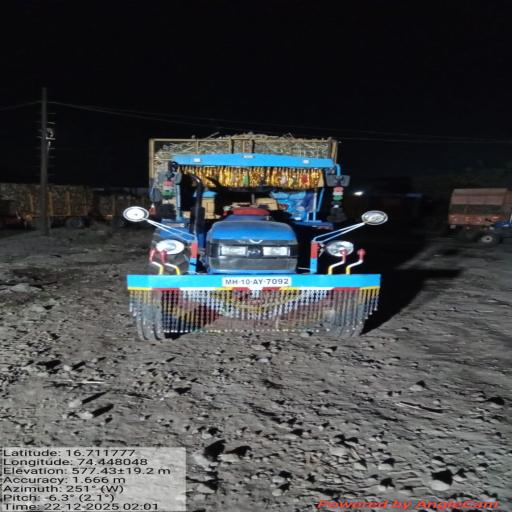number_plate: (212, 270, 314, 289)
